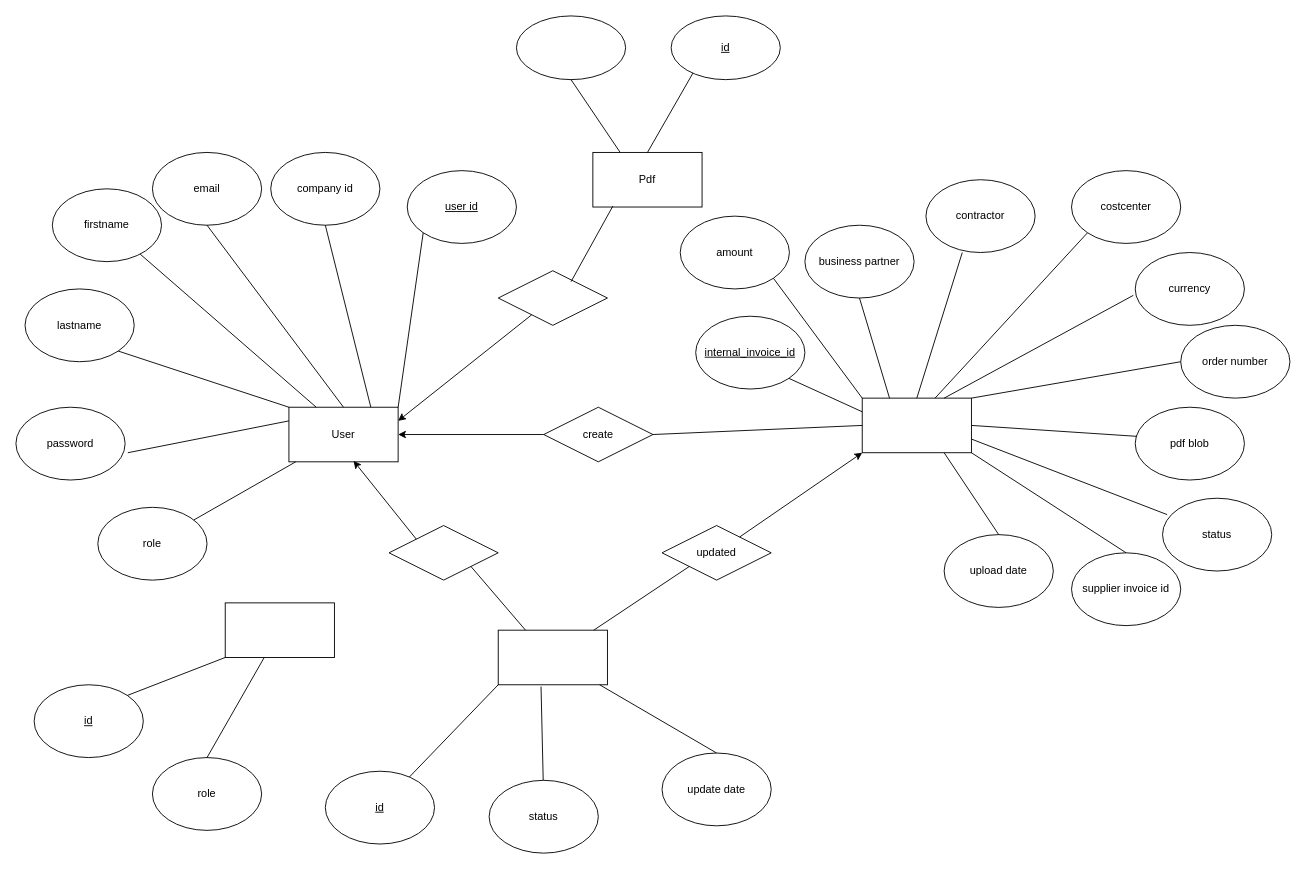
Image size: 1306x869. Some labels were removed from this diagram. Each missing label, with the centre of its shape:
"add" belongs at point (552, 297).
"data" belongs at point (571, 47).
"Invoice" belongs at point (916, 425).
"Roles" belongs at point (279, 629).
"Update_invocie" belongs at point (552, 657).
"updater" belongs at point (443, 552).
